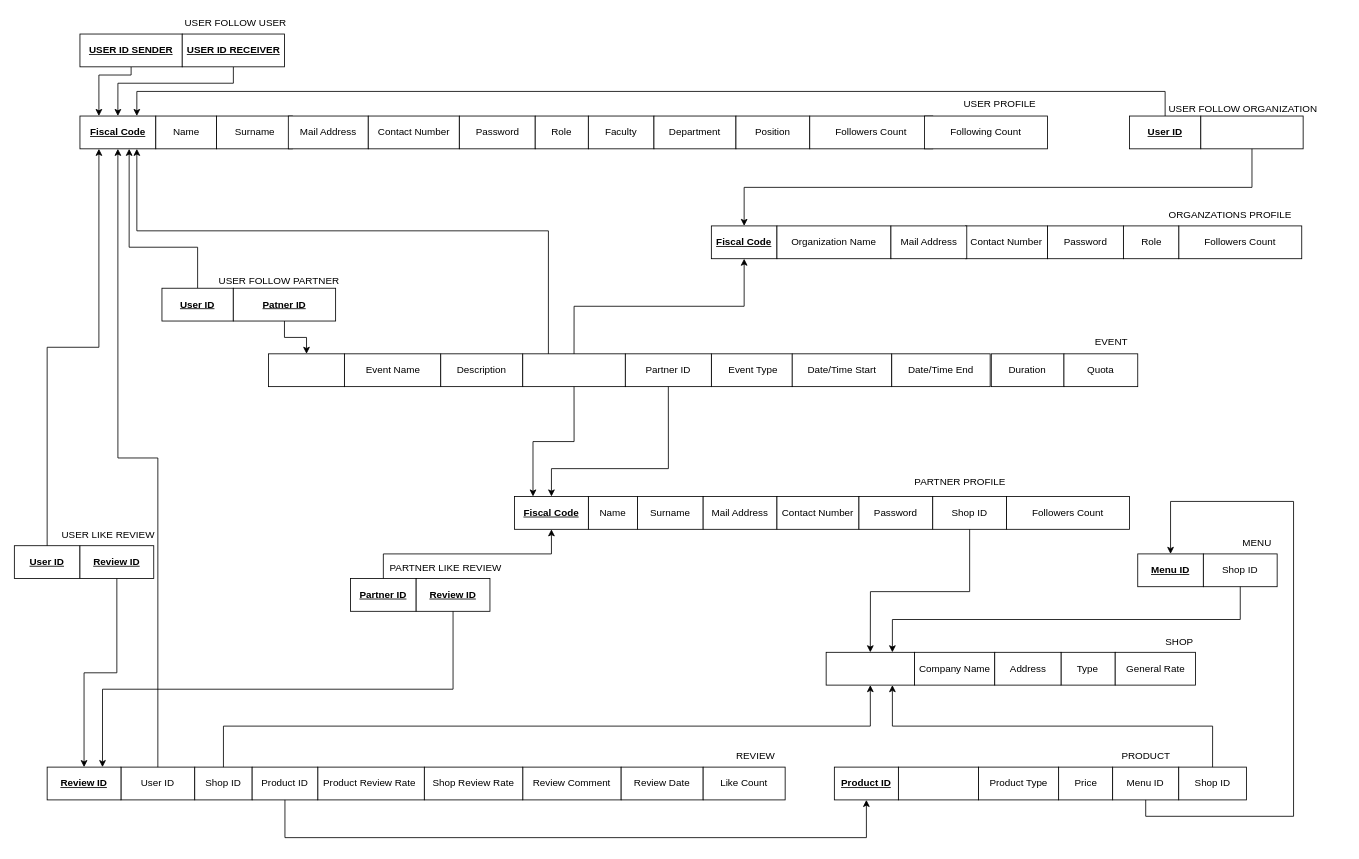
Some shapes in this 1359 by 859 pixel diagram are drawn without their labels. The box of each missing label's shape, as (x1, y1, x2, y2) in pixels:
Event ID: (268, 353, 344, 387)
Organization ID: (522, 353, 625, 387)
Origanization ID: (1200, 115, 1303, 149)
Product Name: (898, 766, 979, 800)
Shop Fiscal Code: (825, 651, 914, 685)
